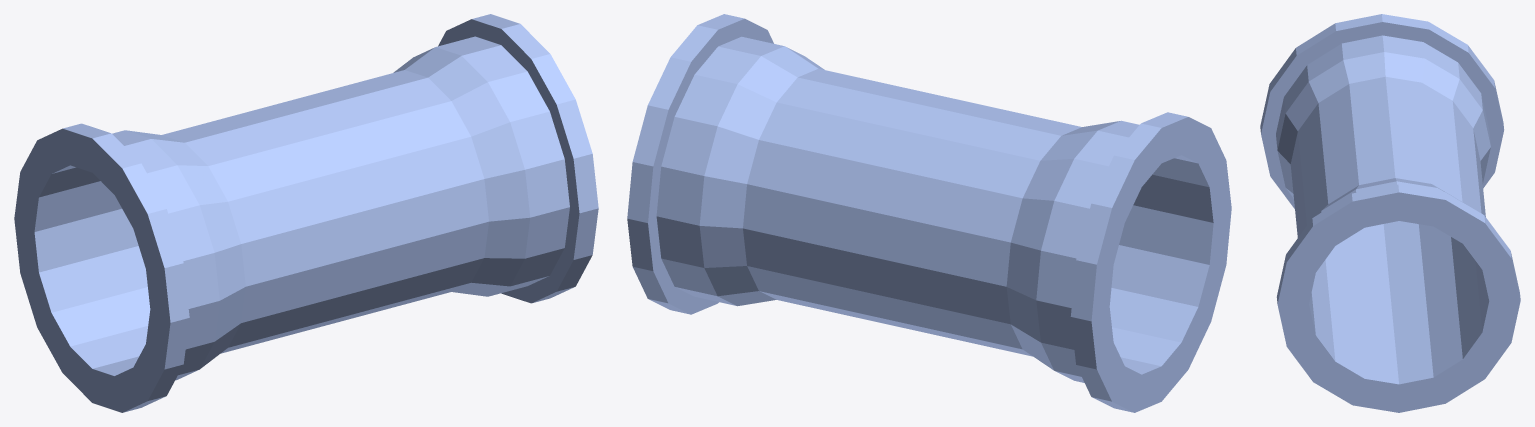
The model's file is Pipeline.fbx.
3 renders of one model, left to right at view 1: azimuth 30°, elevation 25°; view 2: azimuth 150°, elevation 25°; view 3: azimuth 270°, elevation 25°, orthographic. The views are drawn at different scales.
Visible parts, largest first — view 1: 柱体.030; view 2: 柱体.030; view 3: 柱体.030.
Part boxes in pixels (x1,y1,x2,y2): 柱体.030: (14, 14, 598, 412); 柱体.030: (627, 14, 1231, 412); 柱体.030: (1260, 14, 1520, 412).
Size of the model in its own units: 404 by 244 by 228.
